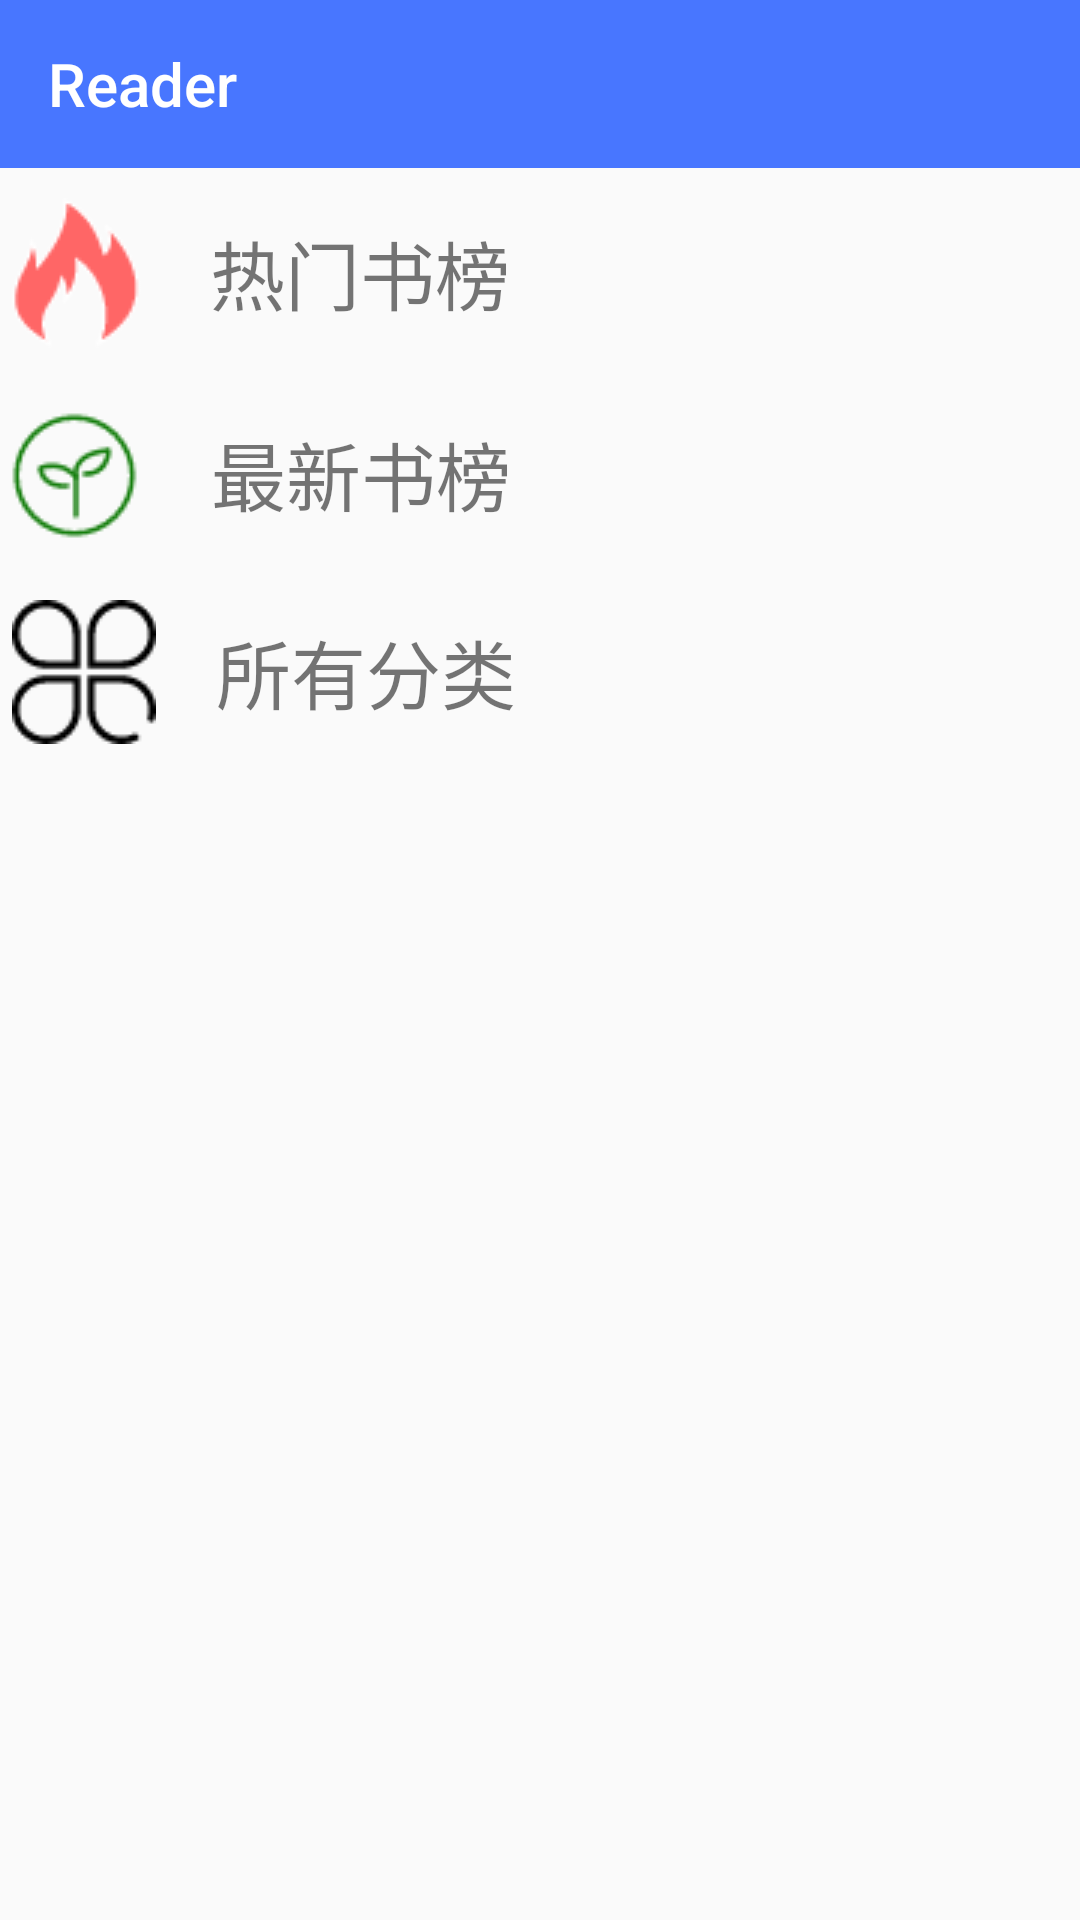

Where icons sit on this 1080px×1920px app screen, as (x1, y1, x2, y2):
all: (12, 600, 156, 744)
fire: (14, 203, 137, 340)
